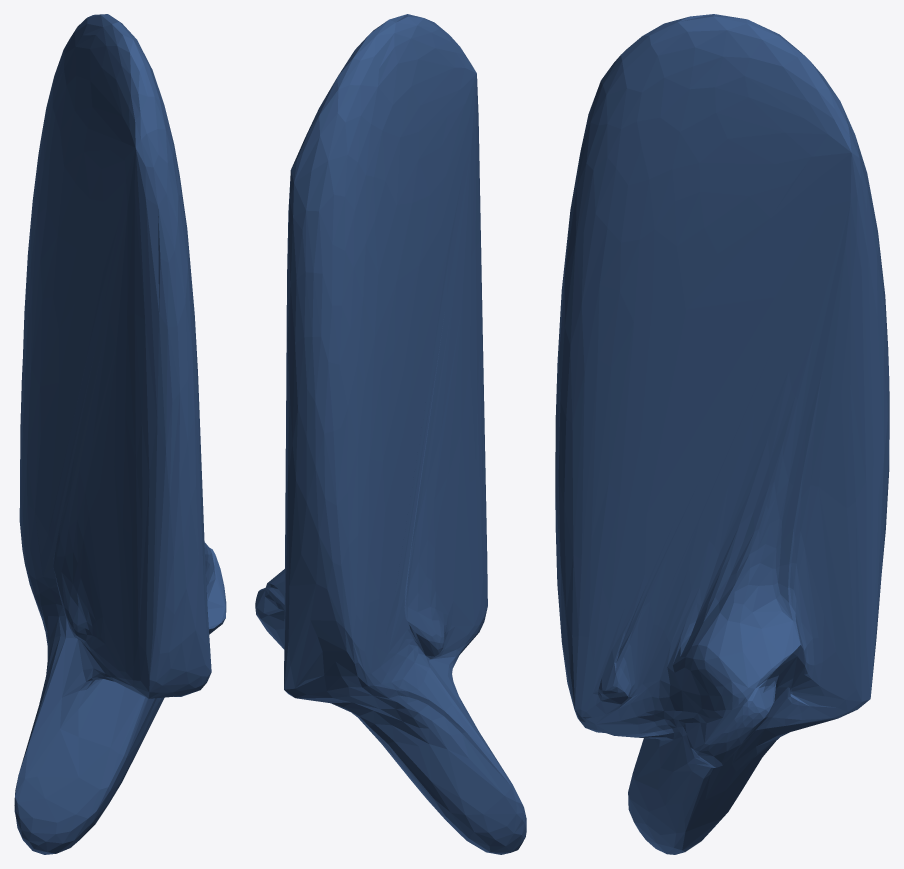
The picture shows the model from 3 angles, left to right: view 1: azimuth 30°, elevation 25°; view 2: azimuth 150°, elevation 25°; view 3: azimuth 270°, elevation 25°; orthographic projection. The views are drawn at different scales.
Visible parts, largest first — view 1: 188_Cube.780; view 2: 188_Cube.780; view 3: 188_Cube.780.
Boxes of the visible parts, left/top/right/bottom form: 188_Cube.780: left=14, top=14, right=226, bottom=854; 188_Cube.780: left=255, top=14, right=526, bottom=854; 188_Cube.780: left=555, top=14, right=889, bottom=854.
Bounding box in the file's own units: 4.26 × 14.13 × 4.86.
